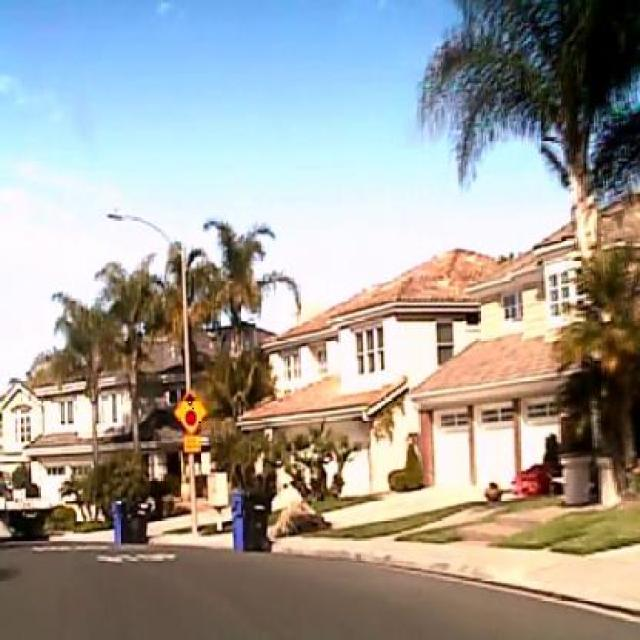stopAhead: (172, 388, 208, 434)
